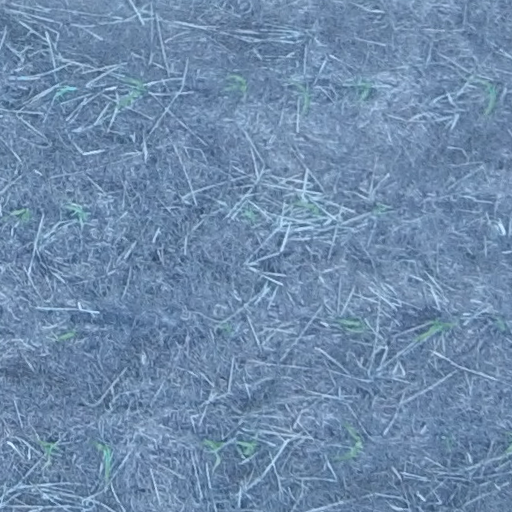planta: (465, 76, 497, 116), (113, 77, 146, 109), (337, 421, 361, 460), (415, 318, 452, 340), (92, 440, 112, 477), (292, 80, 310, 111), (290, 200, 321, 216), (353, 79, 371, 104), (1, 207, 31, 221), (224, 73, 247, 91), (336, 316, 366, 329), (236, 439, 257, 457), (66, 202, 86, 220), (35, 440, 57, 456), (203, 438, 225, 453), (57, 330, 75, 340)
